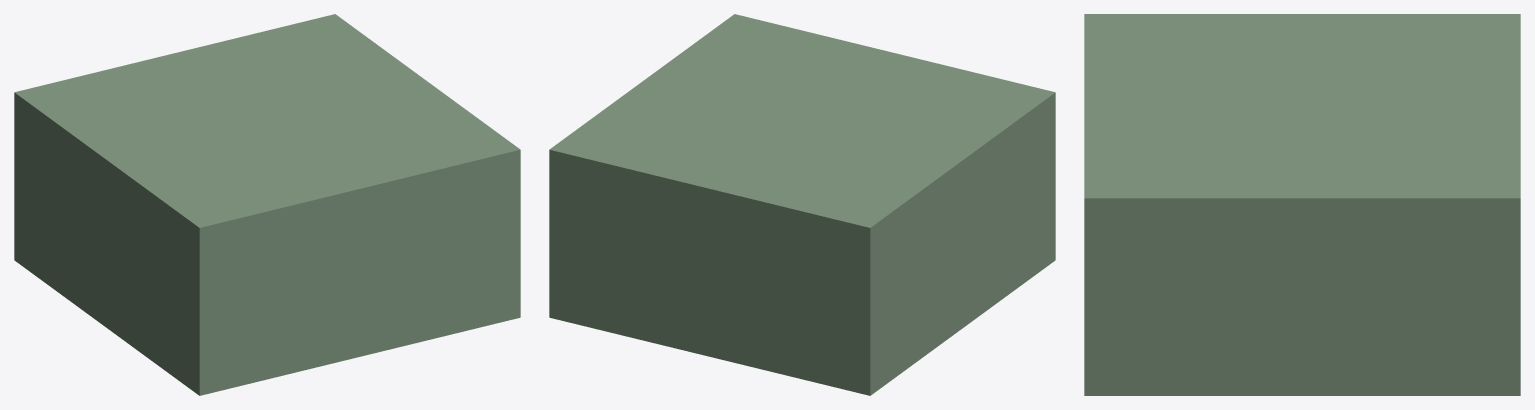
File: Climb_Half.glb
3 views of the same model, side by side, from view 1: azimuth 30°, elevation 25°; view 2: azimuth 150°, elevation 25°; view 3: azimuth 270°, elevation 25° (orthographic). The views are drawn at different scales.
Visible parts, largest first — view 1: Climb_Half_body; view 2: Climb_Half_body; view 3: Climb_Half_body.
Boxes of the visible parts, x1,y1,x2,y2 form: Climb_Half_body: (14,14,520,395); Climb_Half_body: (549,14,1055,395); Climb_Half_body: (1084,14,1520,395).
Bounding box in the file's own units: 1 × 0.5 × 1.
